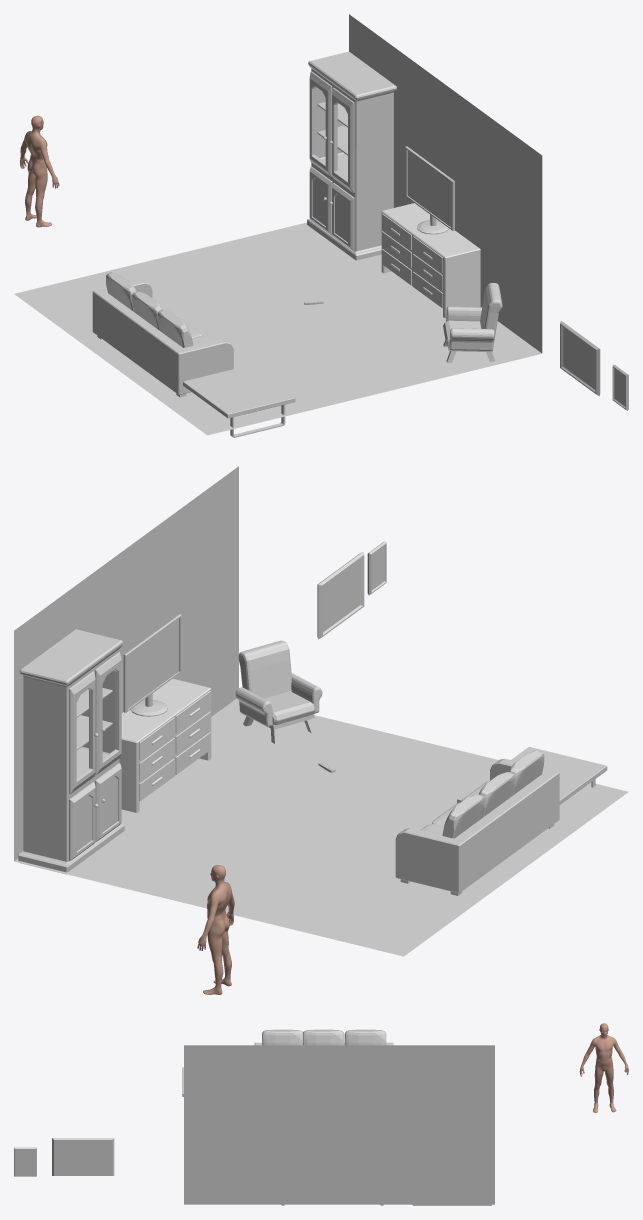
Rendered from Coffee_Table.fbx.
The picture shows the model from 3 angles, top to bottom: view 1: azimuth 30°, elevation 25°; view 2: azimuth 150°, elevation 25°; view 3: azimuth 270°, elevation 25°; orthographic projection. The views are drawn at different scales.
Visible parts, largest first — view 1: Cube.009, Cube.012, Cube.019, Cube, Cube.002, Cube.036, Cube.004, HumanBody:humanBody, Cube.030, Cube.062, Cube.016, Cube.022 (+5 smaller); view 2: Cube.009, Cube.012, Cube.019, Cube.036, Cube, Cube.004, HumanBody:humanBody, Cube.030, Cube.002, Cube.062, Cube.016, Cube.013 (+5 smaller); view 3: Cube.009, Cube.030, HumanBody:humanBody, Cube.020, Cube.031, Cube.021, Cube.023.
Part boxes in pixels (bbox=[...]): Cube.009: bbox=[14, 14, 542, 435]; Cube.012: bbox=[307, 51, 396, 260]; Cube.019: bbox=[92, 279, 233, 397]; Cube: bbox=[381, 203, 480, 318]; Cube.002: bbox=[183, 353, 295, 437]; Cube.036: bbox=[443, 282, 502, 362]; Cube.004: bbox=[405, 146, 454, 230]; HumanBody:humanBody: bbox=[20, 115, 59, 227]; Cube.030: bbox=[560, 321, 600, 396]; Cube.062: bbox=[309, 71, 332, 176]; Cube.016: bbox=[329, 87, 354, 192]; Cube.022: bbox=[329, 183, 354, 250]; Cube.009: bbox=[14, 466, 628, 956]; Cube.012: bbox=[18, 629, 124, 874]; Cube.019: bbox=[395, 758, 559, 895]; Cube.036: bbox=[235, 640, 322, 743]; Cube: bbox=[119, 679, 211, 812]; Cube.004: bbox=[123, 614, 181, 712]; HumanBody:humanBody: bbox=[197, 865, 234, 994]; Cube.030: bbox=[317, 552, 364, 639]; Cube.002: bbox=[457, 746, 607, 804]; Cube.062: bbox=[69, 671, 98, 793]; Cube.016: bbox=[95, 652, 121, 774]; Cube.013: bbox=[69, 782, 98, 860]; Cube.009: bbox=[184, 1045, 494, 1204]; Cube.030: bbox=[52, 1138, 114, 1175]; HumanBody:humanBody: bbox=[579, 1023, 628, 1112]; Cube.020: bbox=[344, 1029, 386, 1045]; Cube.031: bbox=[14, 1147, 36, 1176]; Cube.021: bbox=[262, 1029, 302, 1045]; Cube.023: bbox=[303, 1029, 343, 1045].
Size of the model in its own units: 601 by 358 by 1188.
